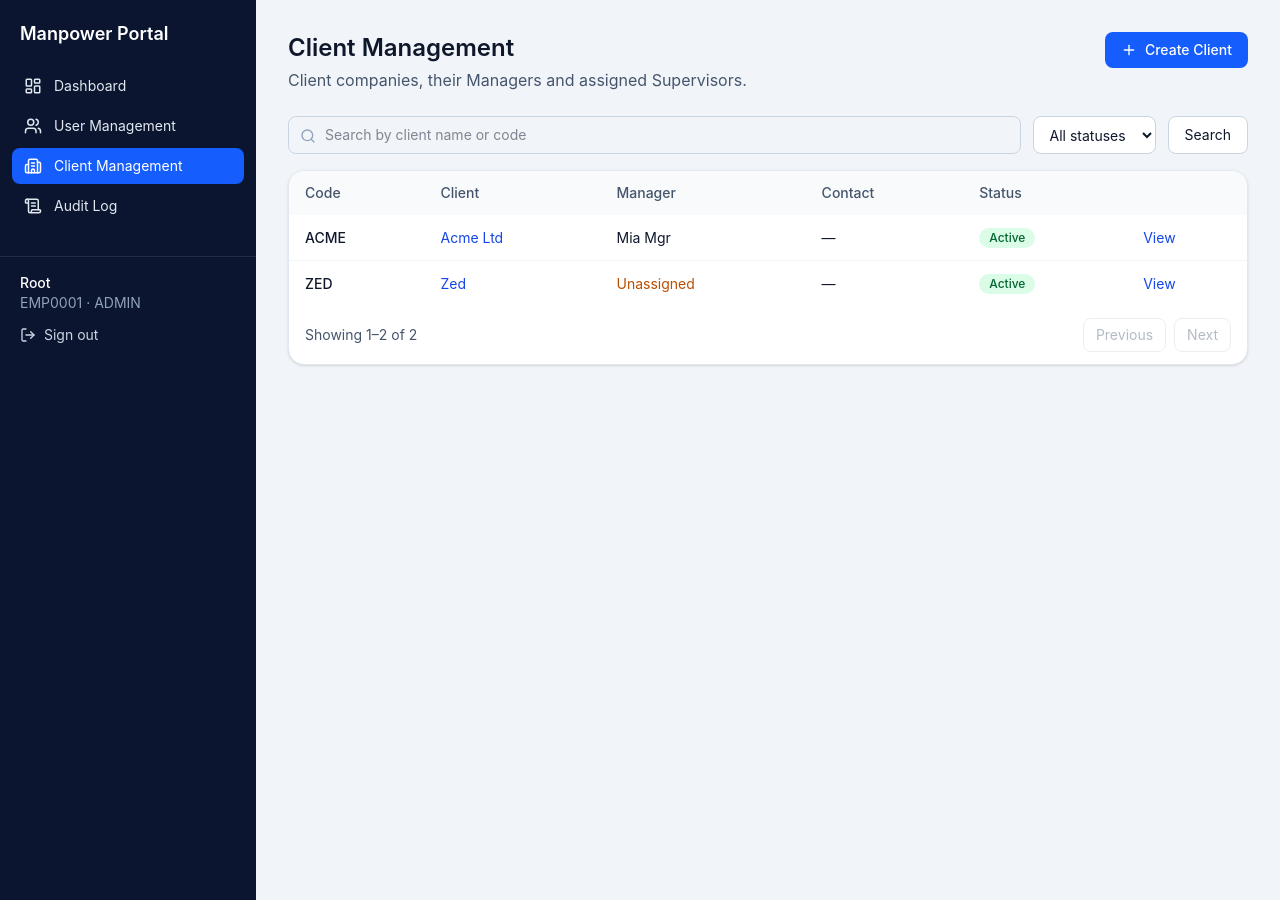
Test case: client list shows manager / unassigned, searches and opens create page
expect the text "Mia Mgr" is shown: met, box [600,215,806,260]
expect the text "Unassigned" is shown: met, box [616,274,695,292]
Step 1. Type "zed" into the field named "Search clients" → [654, 135], box [288,116,1020,154]
Then press Enter
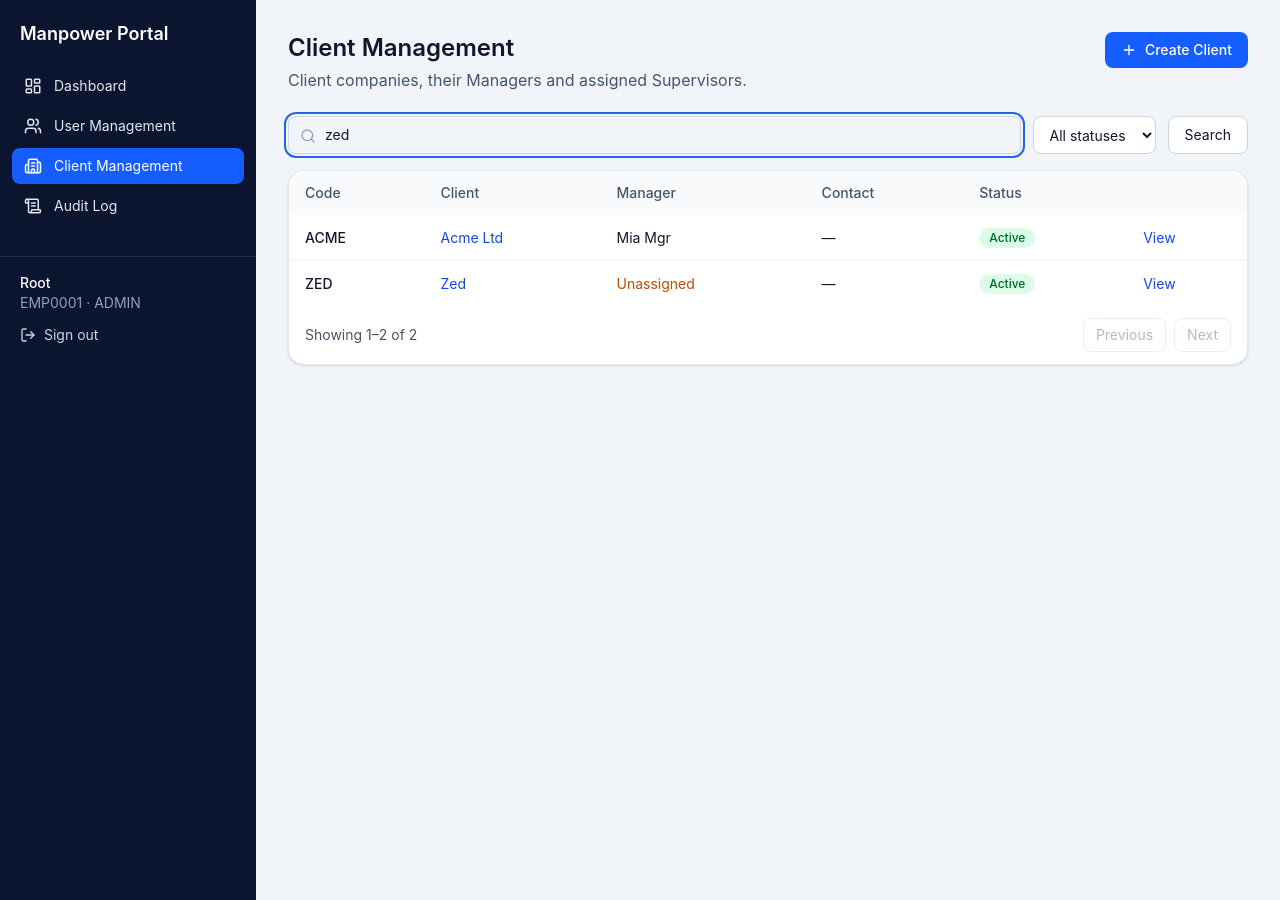
Step 2. Click the button "Create Client" → [1176, 50], box [1105,32,1248,68]
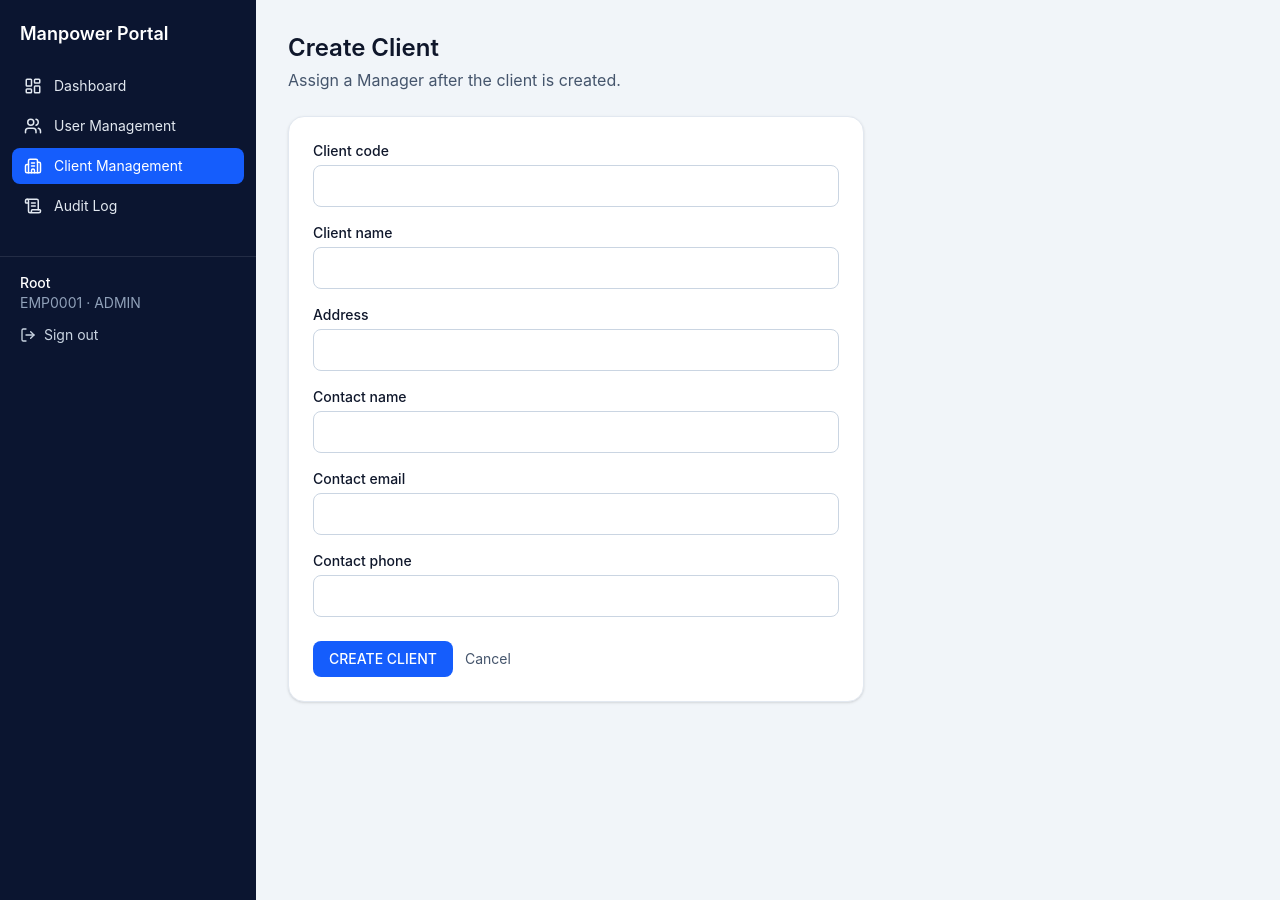
expect the heading "Create Client" is shown: met, box [288,33,439,62]
